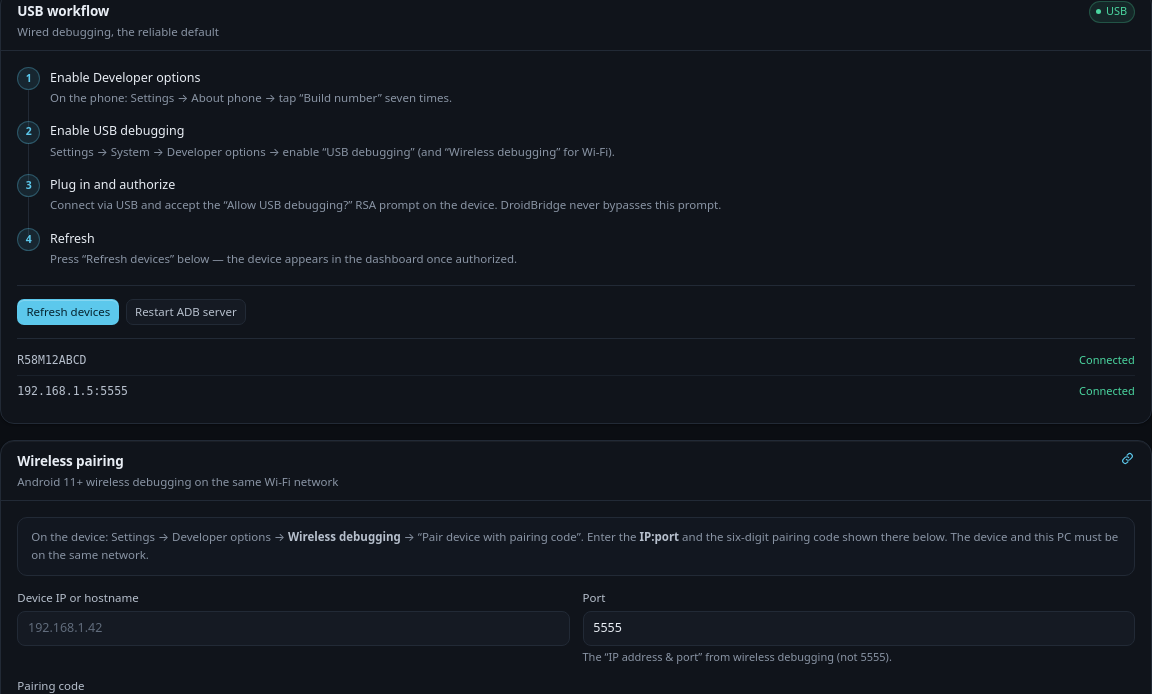
Test: PairingView › validates the port before invoking adb
Type "192.168.1.7" into the field with placeholder "192.168.1.42".
click(293, 628); type("192.168.1.7")  # box [17,611,570,646]
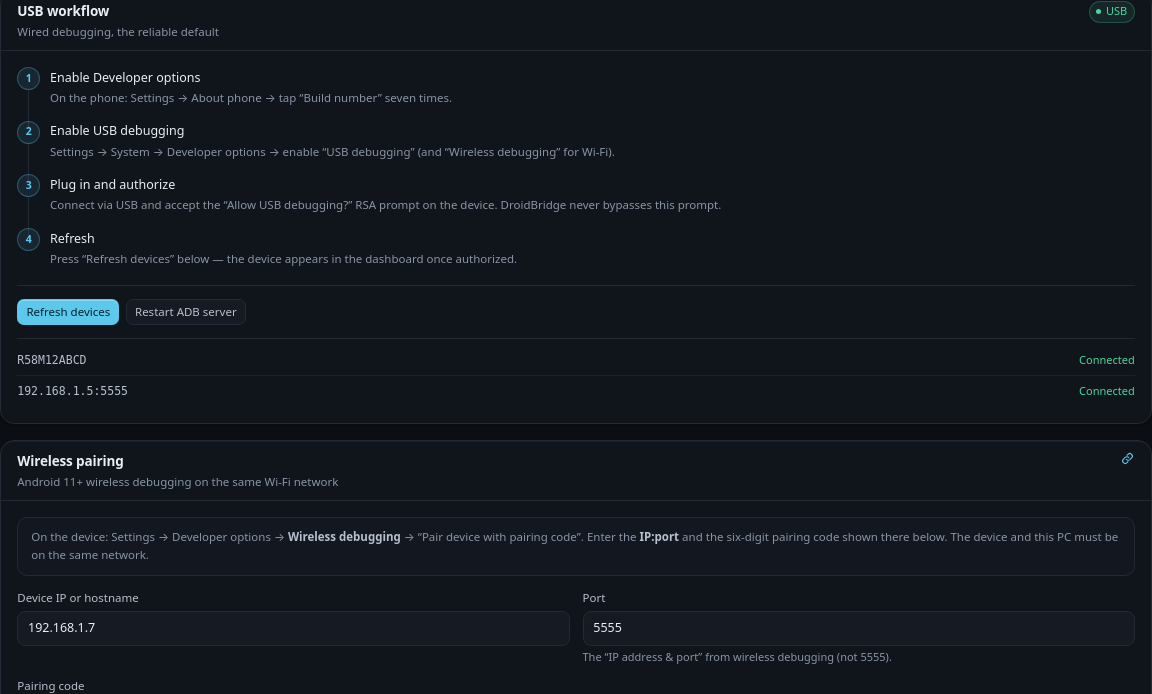
Replace the text in the field with placeholder "42123" with "99999" at (859, 628), box [582,611,1135,646]
(page scrolled)
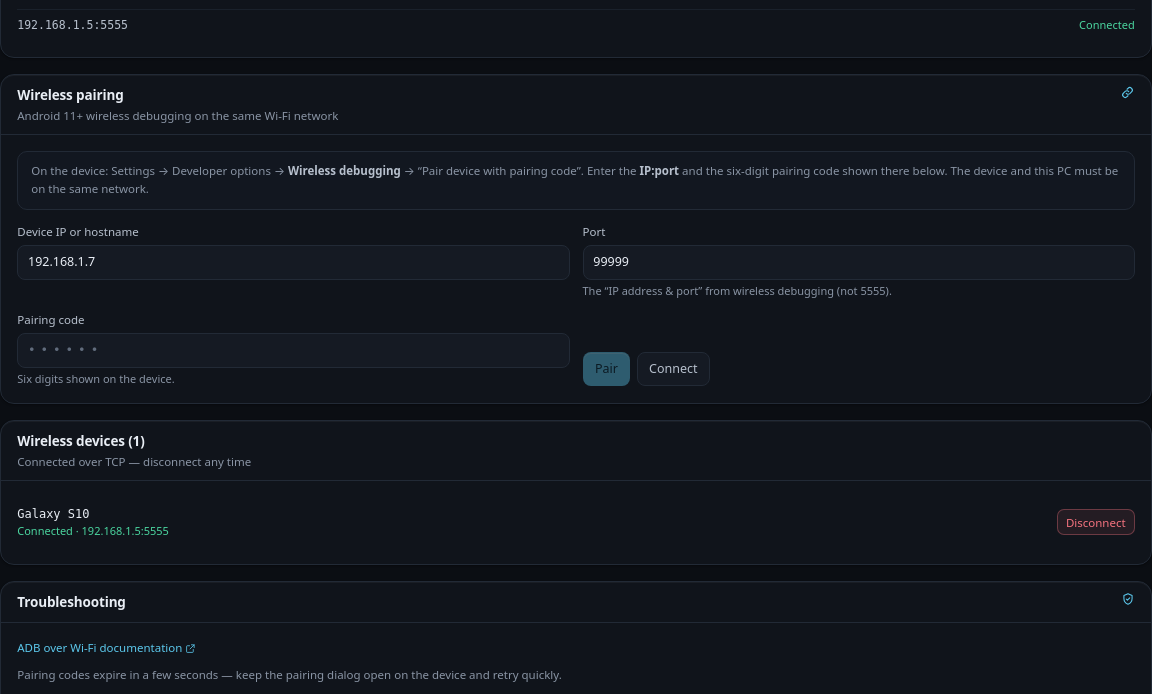
Type "123456" into the field with placeholder "••••••".
click(293, 351); type("123456")  # box [17,333,570,368]
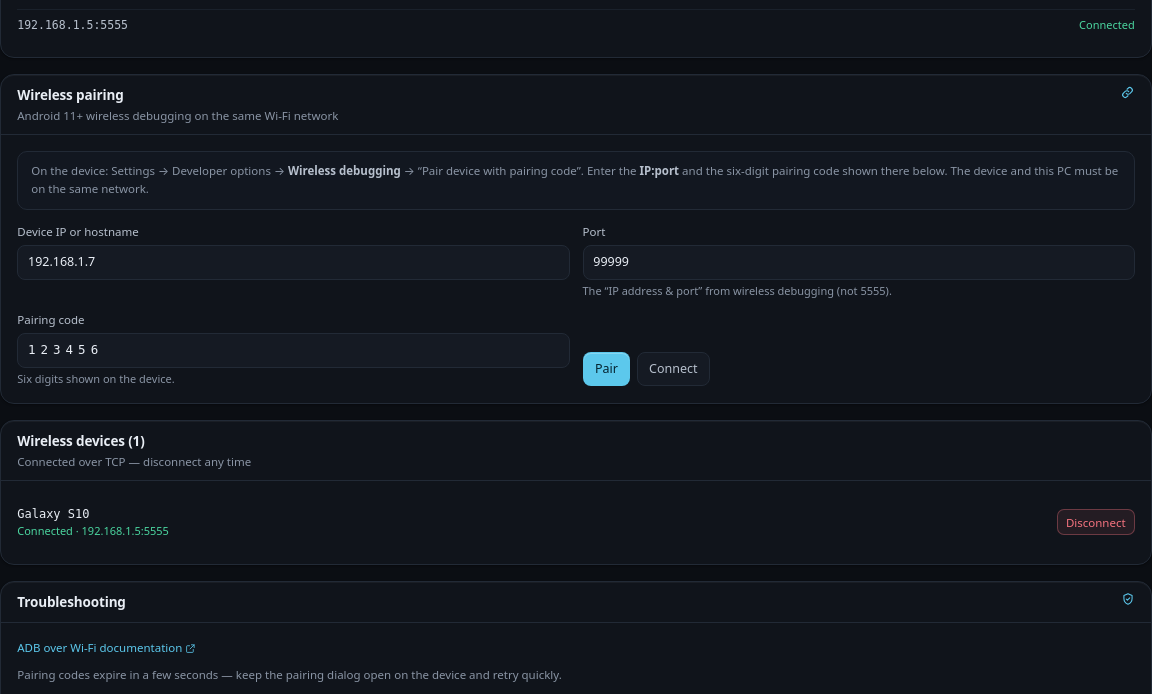
Click the button "Pair".
click(606, 369)  # box [582,352,630,386]
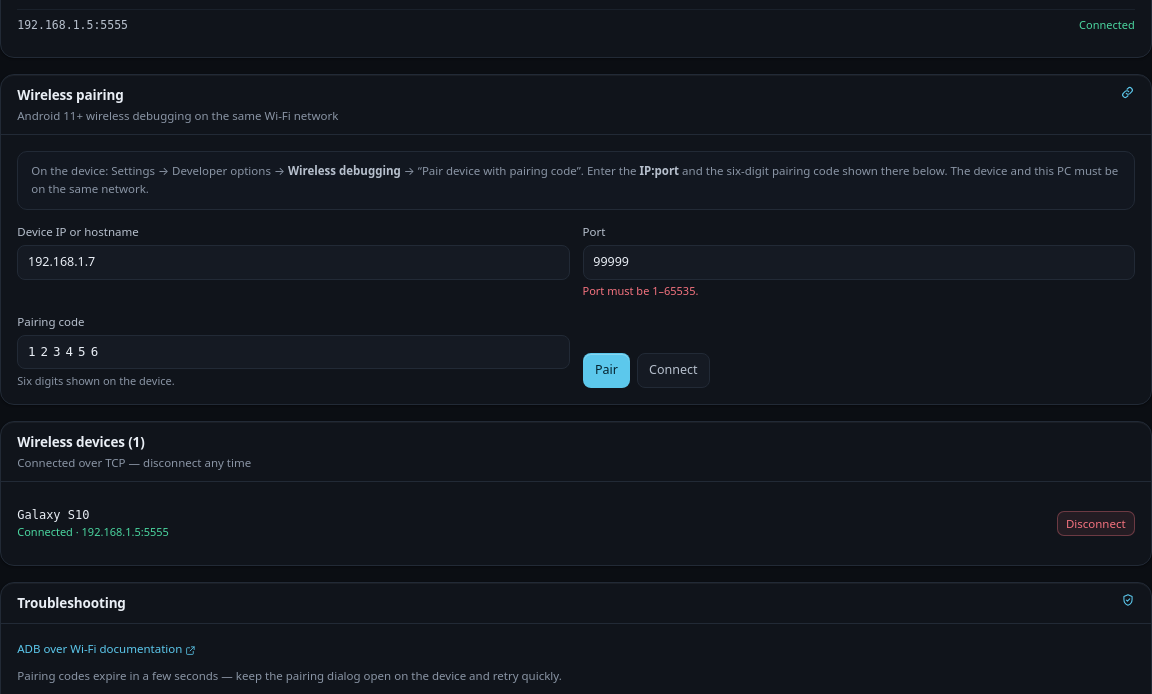
Expected: the text "Port must be 1–65535." is shown, [582,283,698,298]
